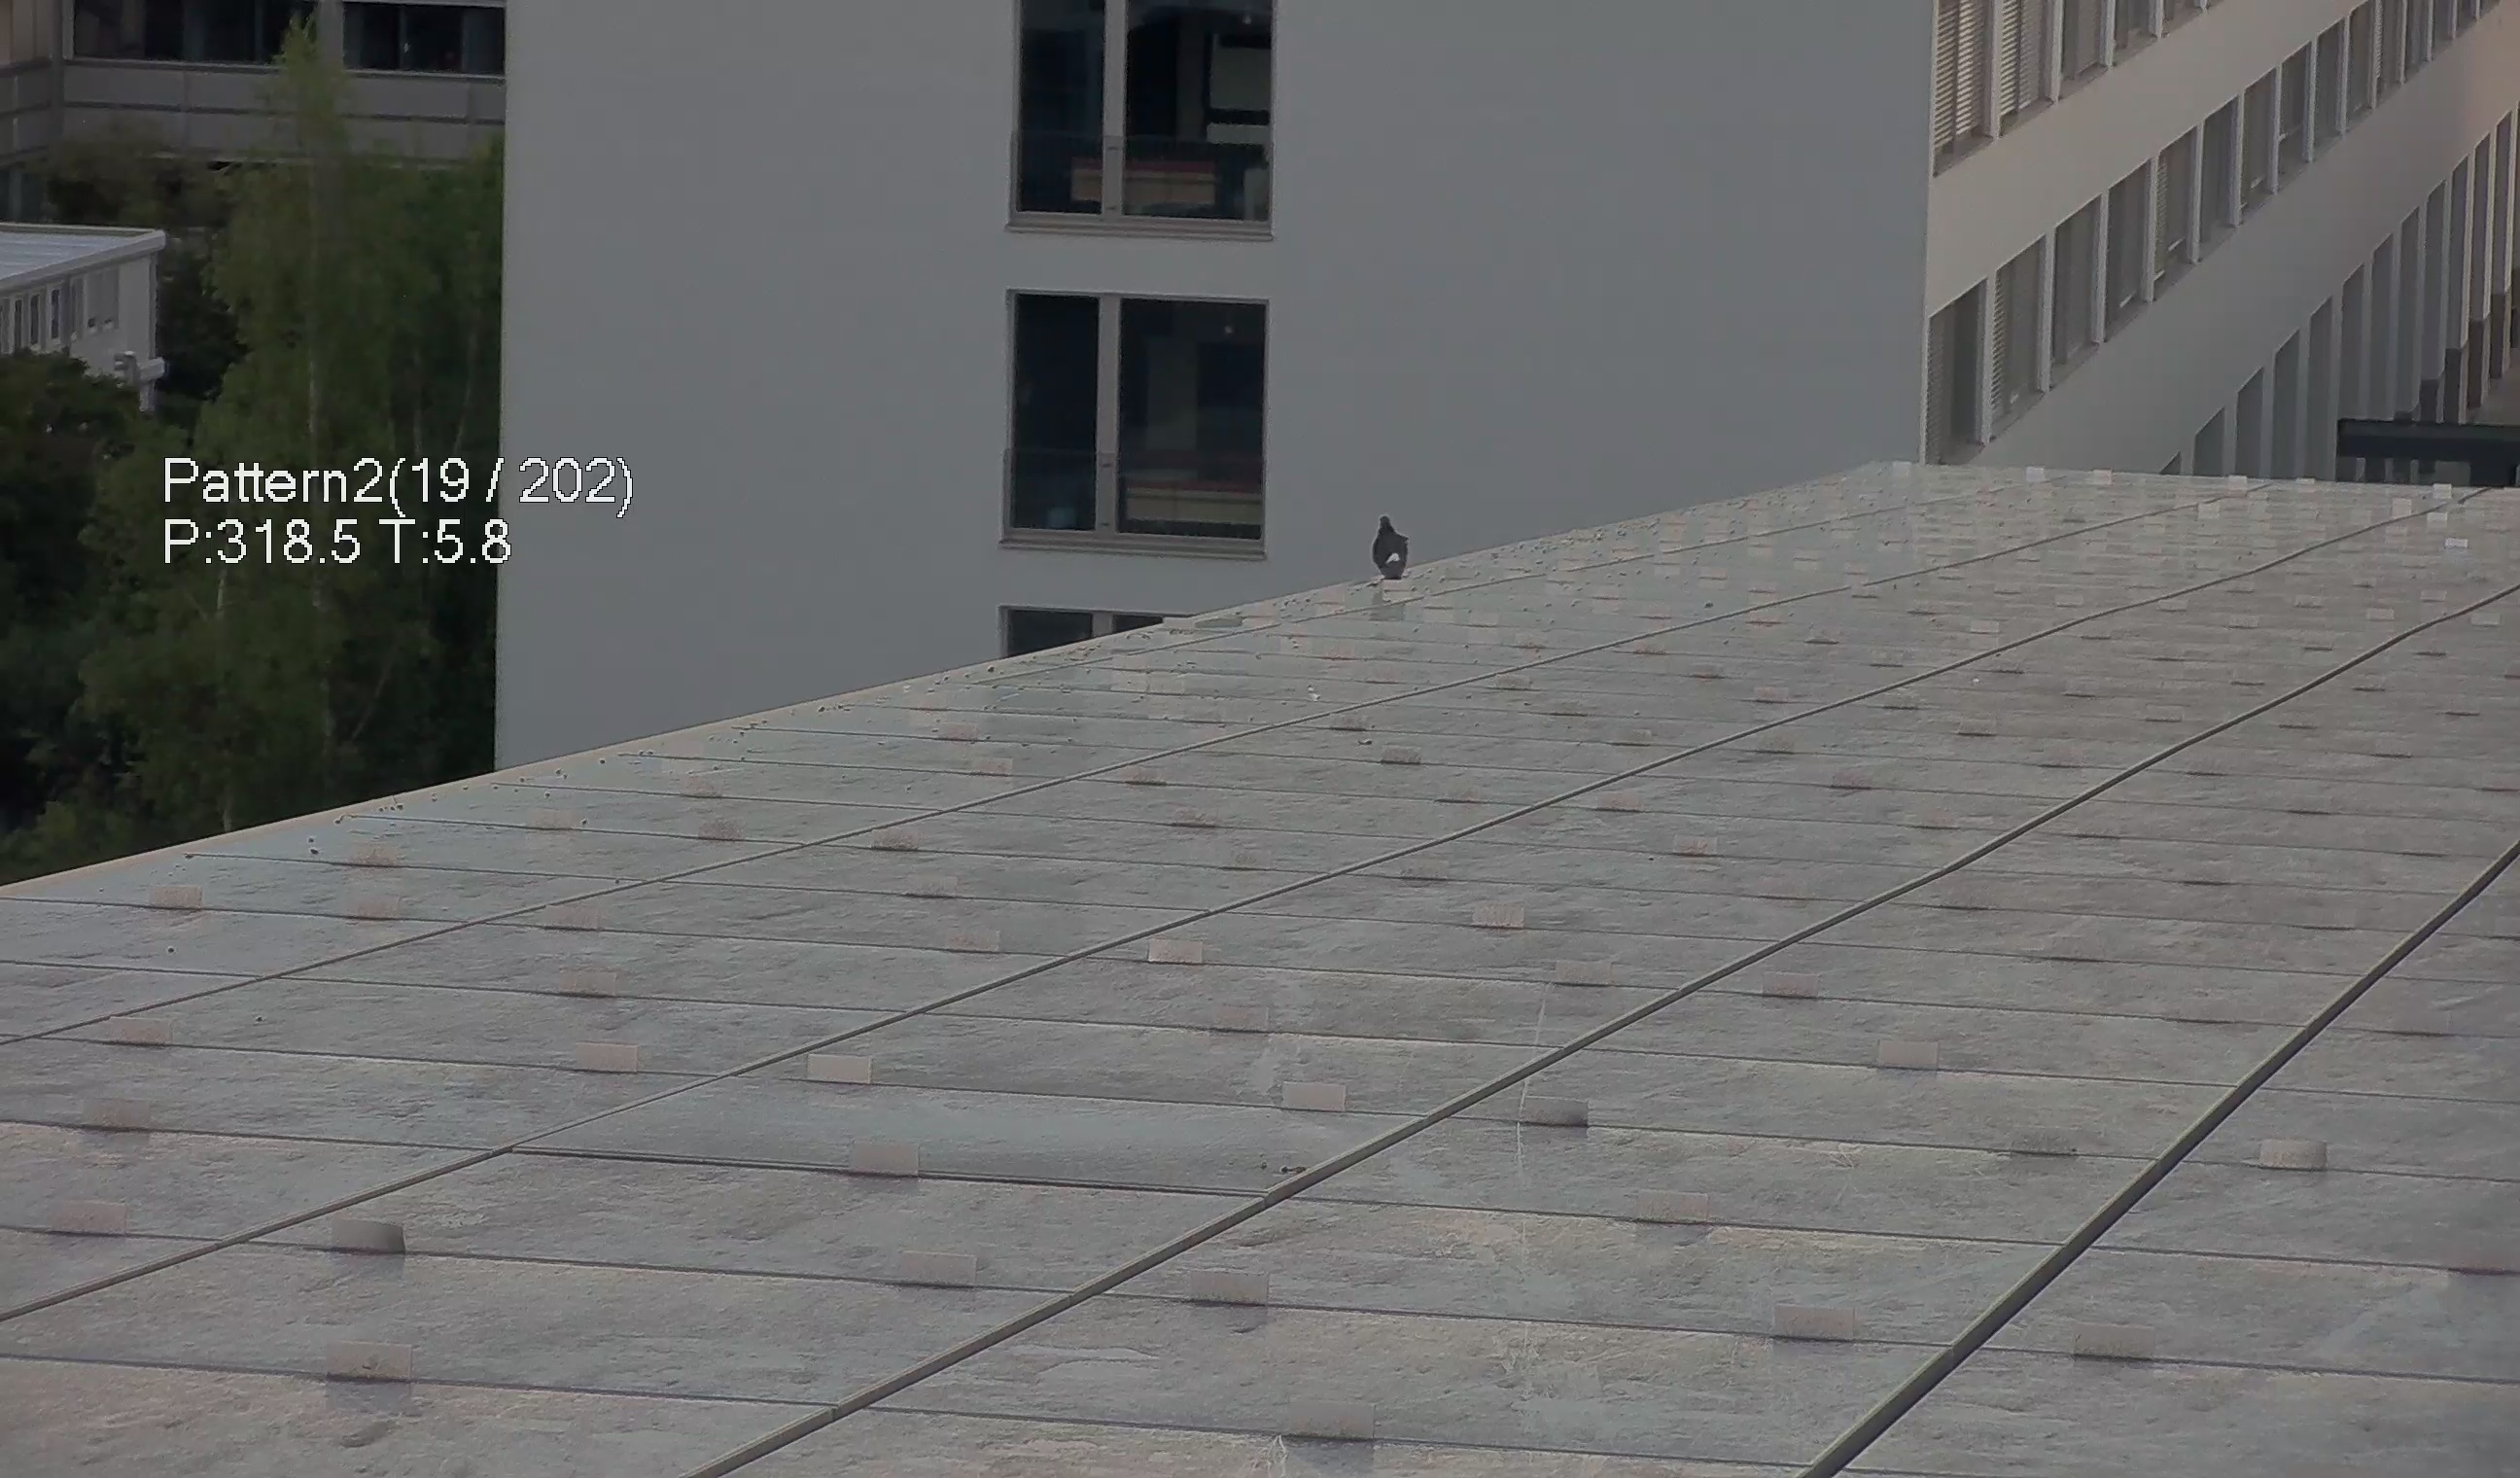Pigeon: (1365, 500, 1423, 586)
